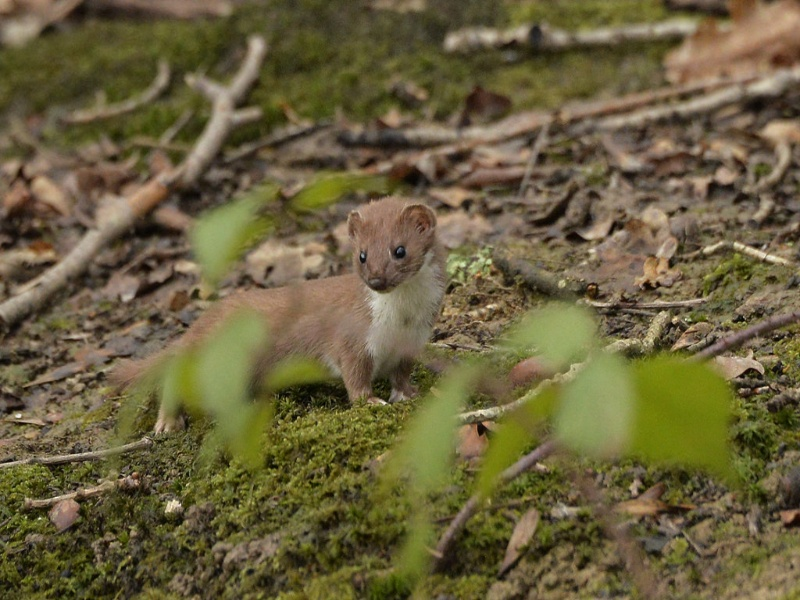minkish: (125, 194, 452, 443)
